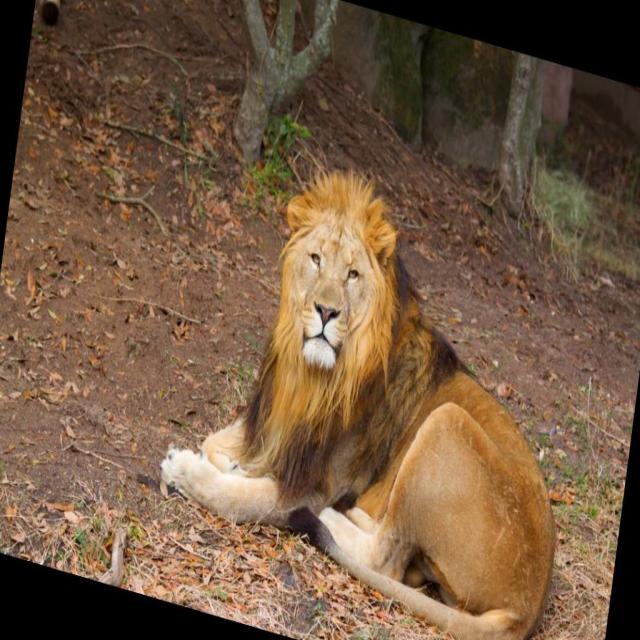Lion: (146, 115, 596, 639)
